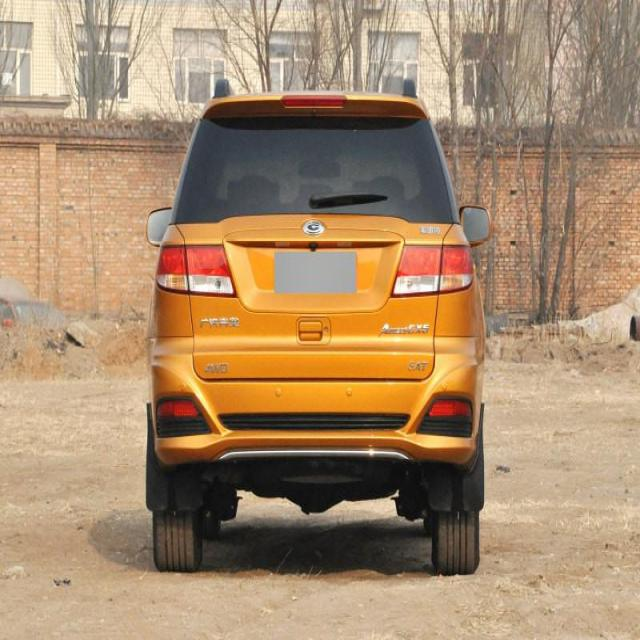back_glass: (168, 111, 460, 230)
back_left_side_light: (154, 242, 238, 300)
back_right_side_light: (390, 241, 474, 299)
front_left_side_mirror: (144, 204, 180, 249)
front_right_side_mirror: (458, 201, 498, 247)
rear_bumper: (147, 333, 485, 473)
wheel: (431, 462, 484, 578), (153, 459, 204, 576)
